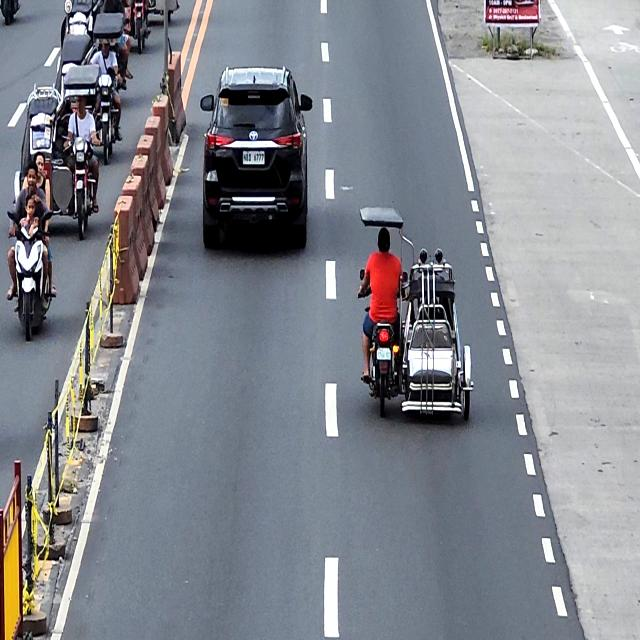Car: (199, 67, 313, 255)
License-Plate: (242, 150, 265, 165), (376, 347, 392, 360)
Motorcycle: (6, 208, 55, 340)
Tricycle: (358, 205, 475, 423), (14, 65, 101, 239), (59, 13, 125, 164), (105, 0, 150, 50)
